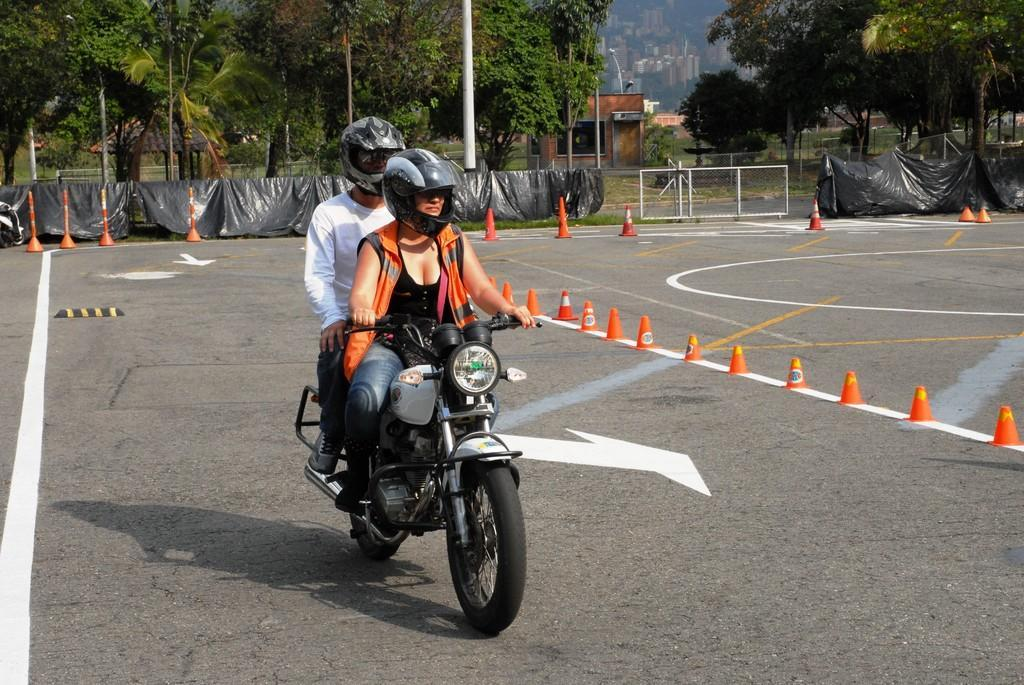helmet: (382, 147, 466, 239), (338, 115, 408, 199)
